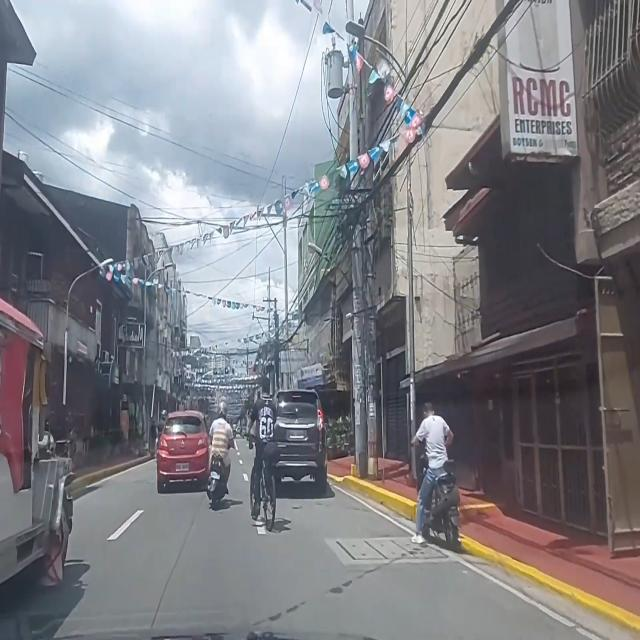bike: (248, 376, 276, 529)
car: (273, 390, 328, 492), (156, 410, 210, 493)
jeepney: (0, 299, 73, 585)
motorcycle: (411, 402, 462, 550), (207, 401, 234, 509), (232, 422, 236, 438)
